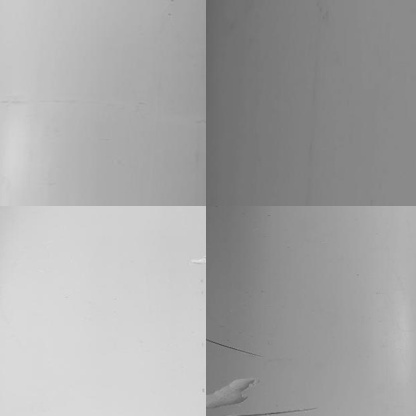sunshang: (206, 377, 253, 407), (206, 337, 262, 361), (256, 405, 316, 416)
